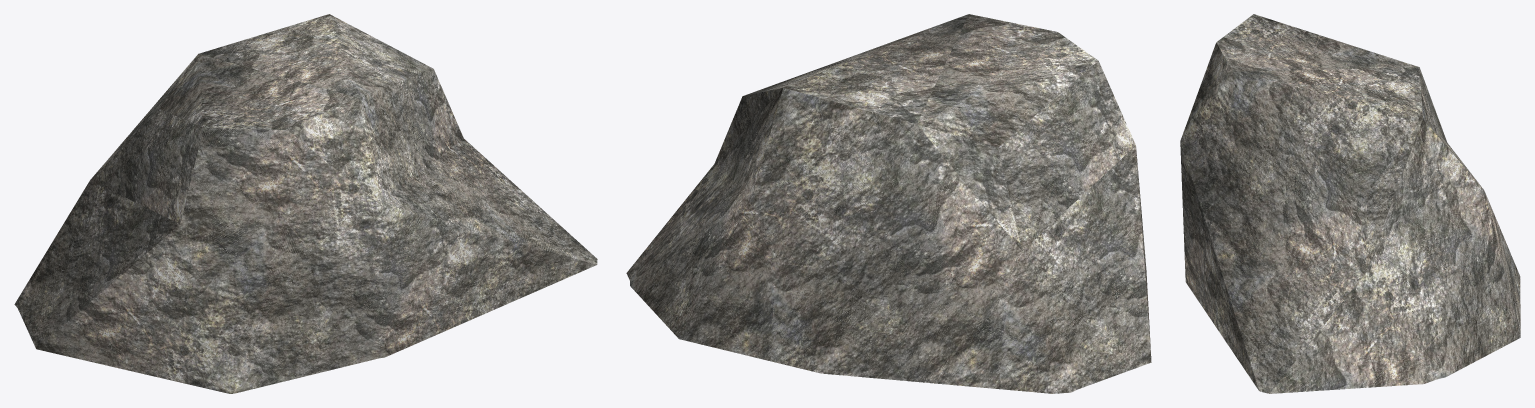
Rendered from Rock 1.fbx.
3 renders of one model, left to right at view 1: azimuth 30°, elevation 25°; view 2: azimuth 150°, elevation 25°; view 3: azimuth 270°, elevation 25°, orthographic. The views are drawn at different scales.
Visible parts, largest first — view 1: Model; view 2: Model; view 3: Model.
Boxes of the visible parts, <box> form: Model: <box>14,14,597,393</box>; Model: <box>626,14,1151,393</box>; Model: <box>1180,14,1520,393</box>.
Bounding box in the file's own units: 155 × 69.27 × 101.
